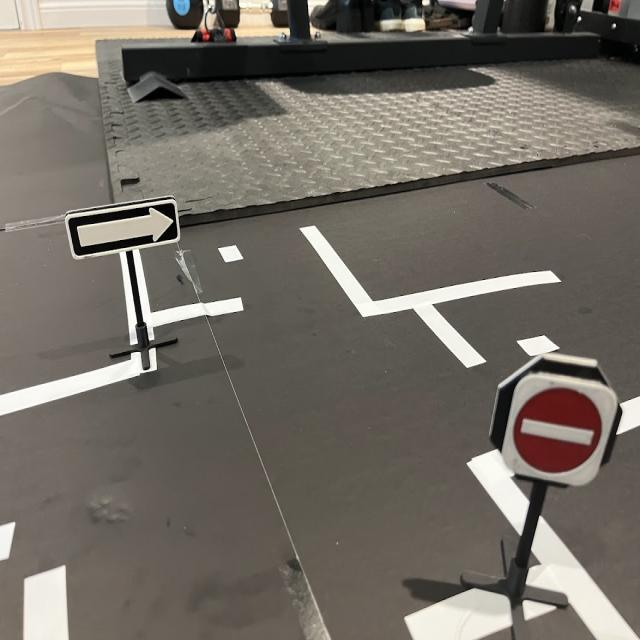sign_noentry: (499, 370, 621, 493)
sign_oneway_right: (63, 194, 183, 264)
